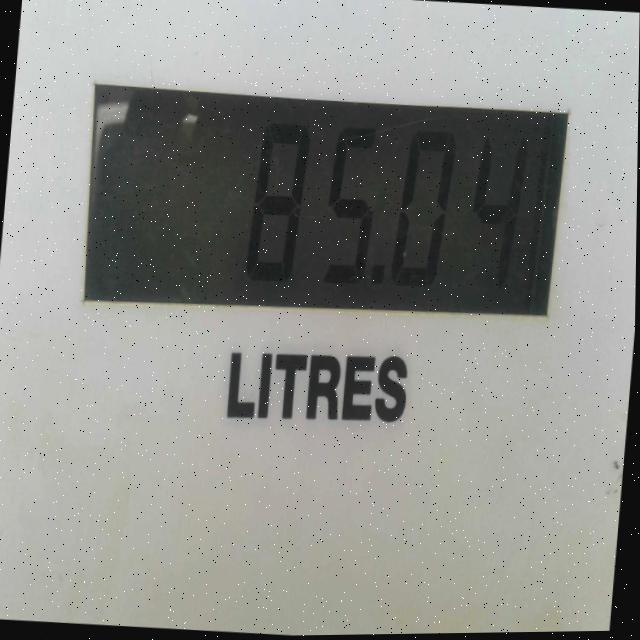.: (373, 262, 386, 292)
0: (389, 131, 457, 287)
4: (461, 130, 532, 297)
5: (317, 110, 384, 289)
8: (244, 110, 313, 292)
